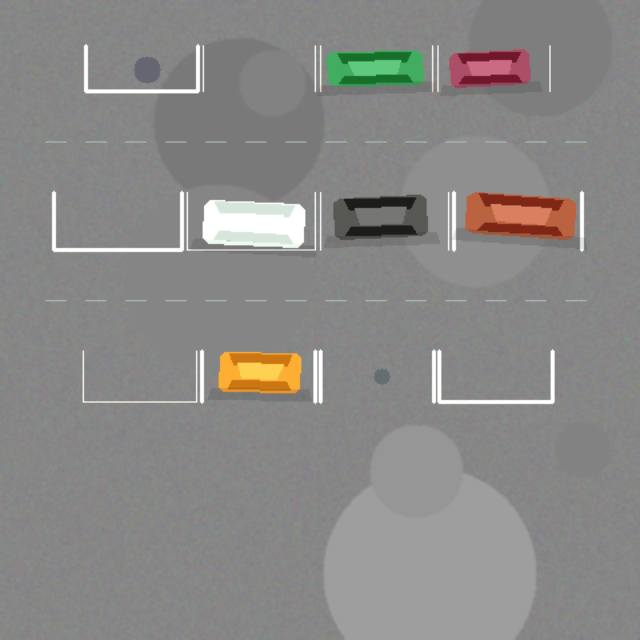space-empty: (53, 192, 181, 249), (83, 351, 196, 401), (320, 351, 433, 401), (439, 351, 552, 401), (85, 45, 197, 91), (203, 45, 315, 91)
space-occupied: (187, 192, 315, 249), (320, 192, 448, 249), (453, 192, 581, 249), (201, 351, 315, 401), (320, 45, 432, 91), (437, 45, 549, 91)
